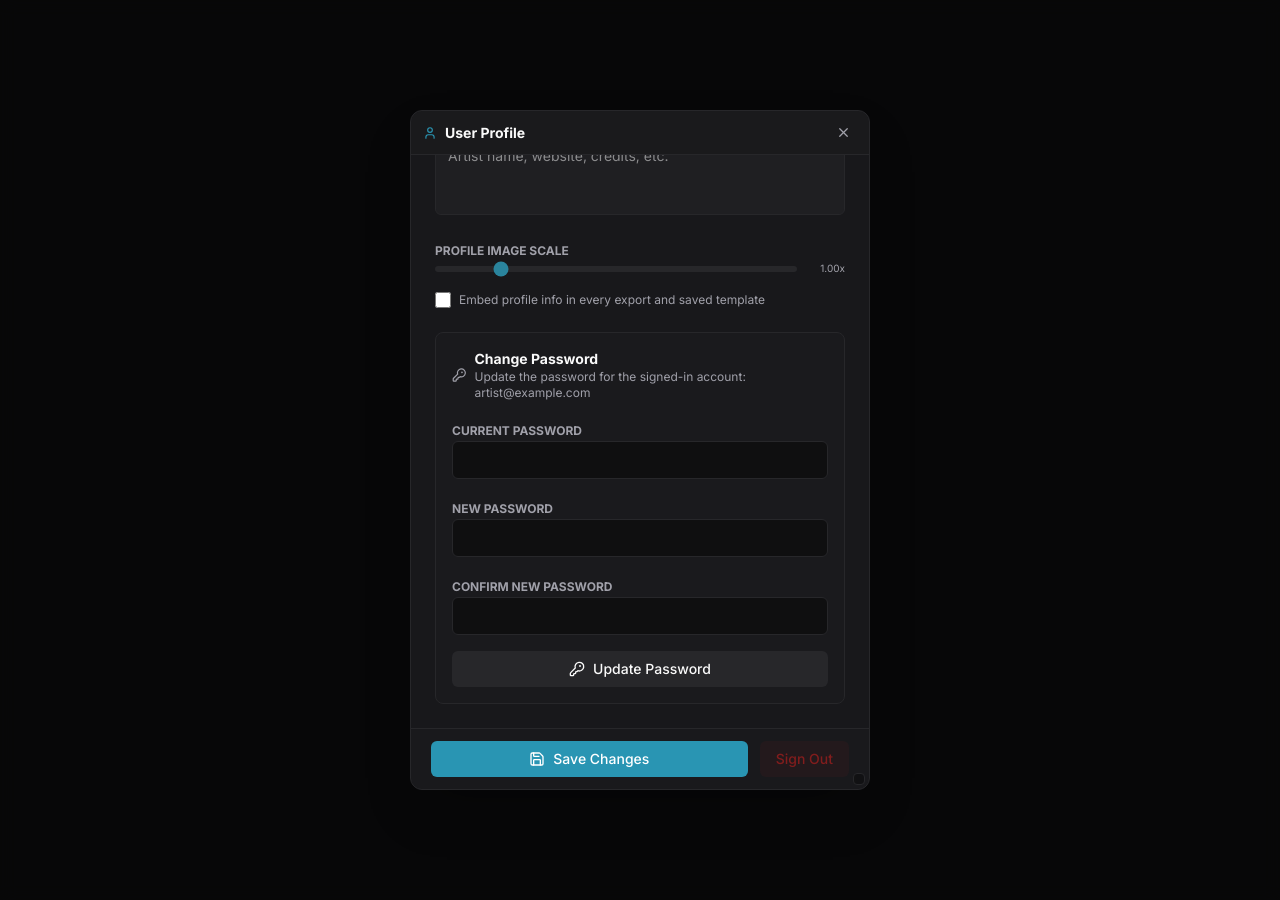
Scenario: UserProfileModal › changes the signed-in account password from the profile modal
(page scrolled)
Step 1. Type "old-secret" into the password field named "Current Password" → (640, 460), box [452,441,828,479]
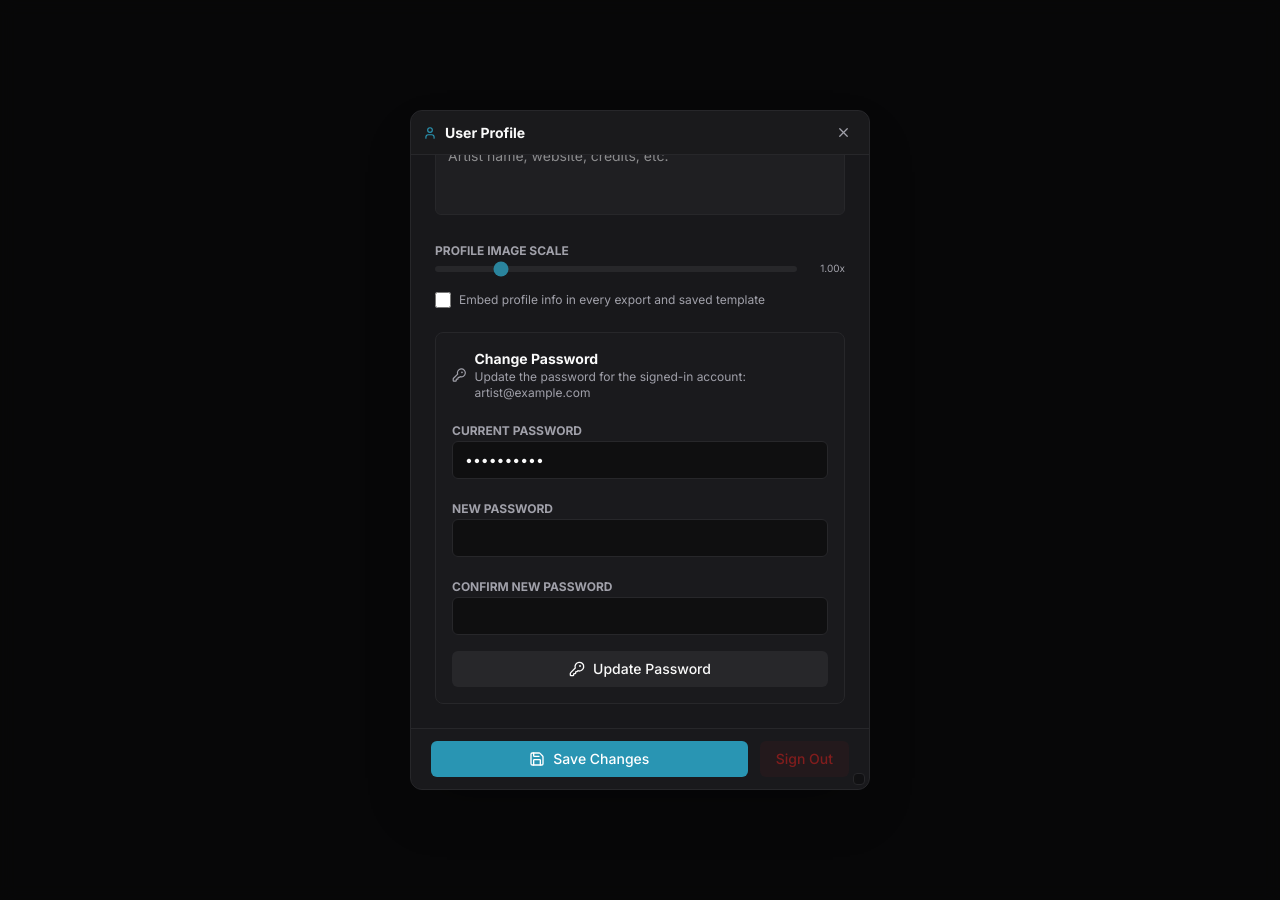
Step 2. Type "new-secret" into the password field named "New Password" → (640, 538), box [452,519,828,557]
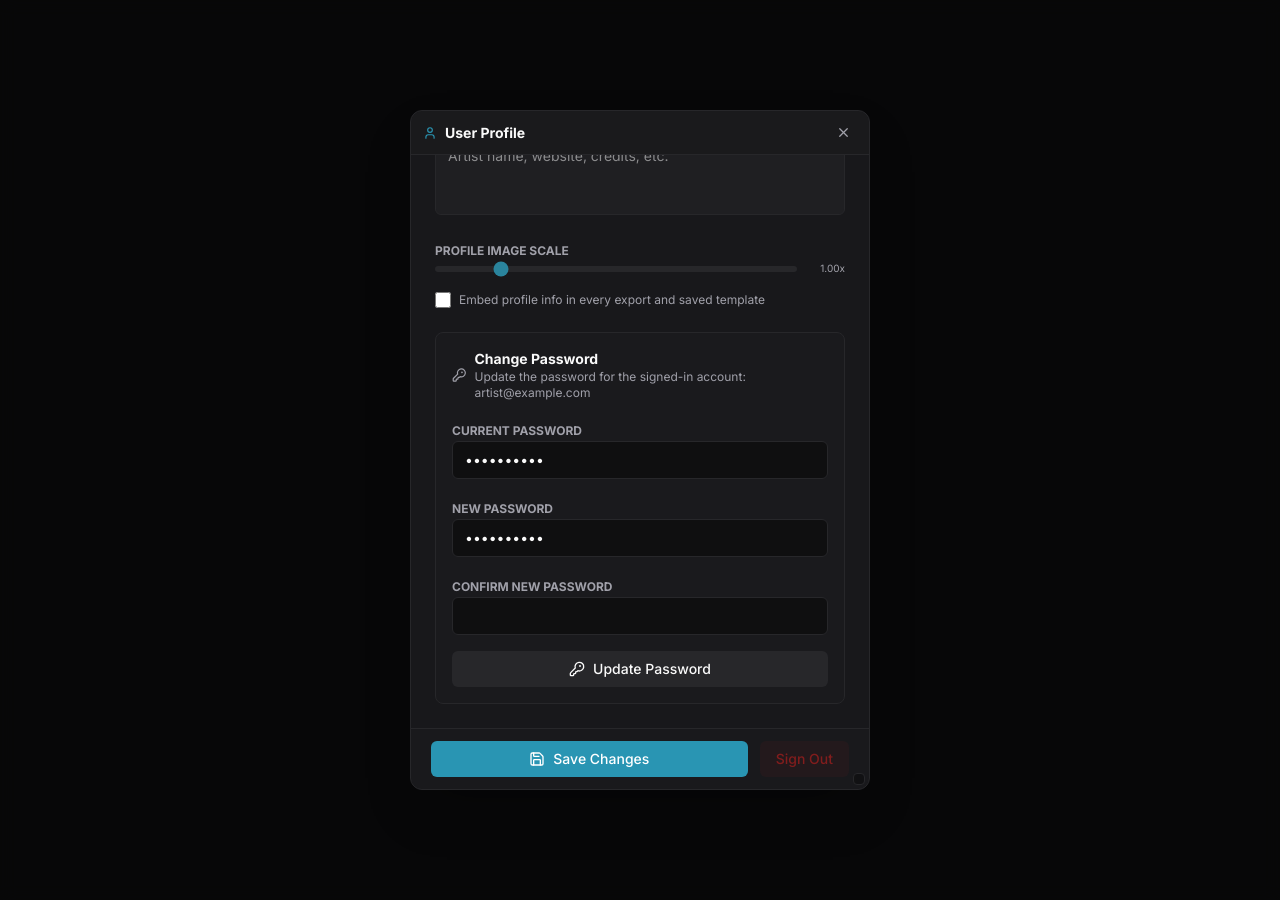
Step 3. Type "new-secret" into the password field named "Confirm New Password" → (640, 616), box [452,597,828,635]
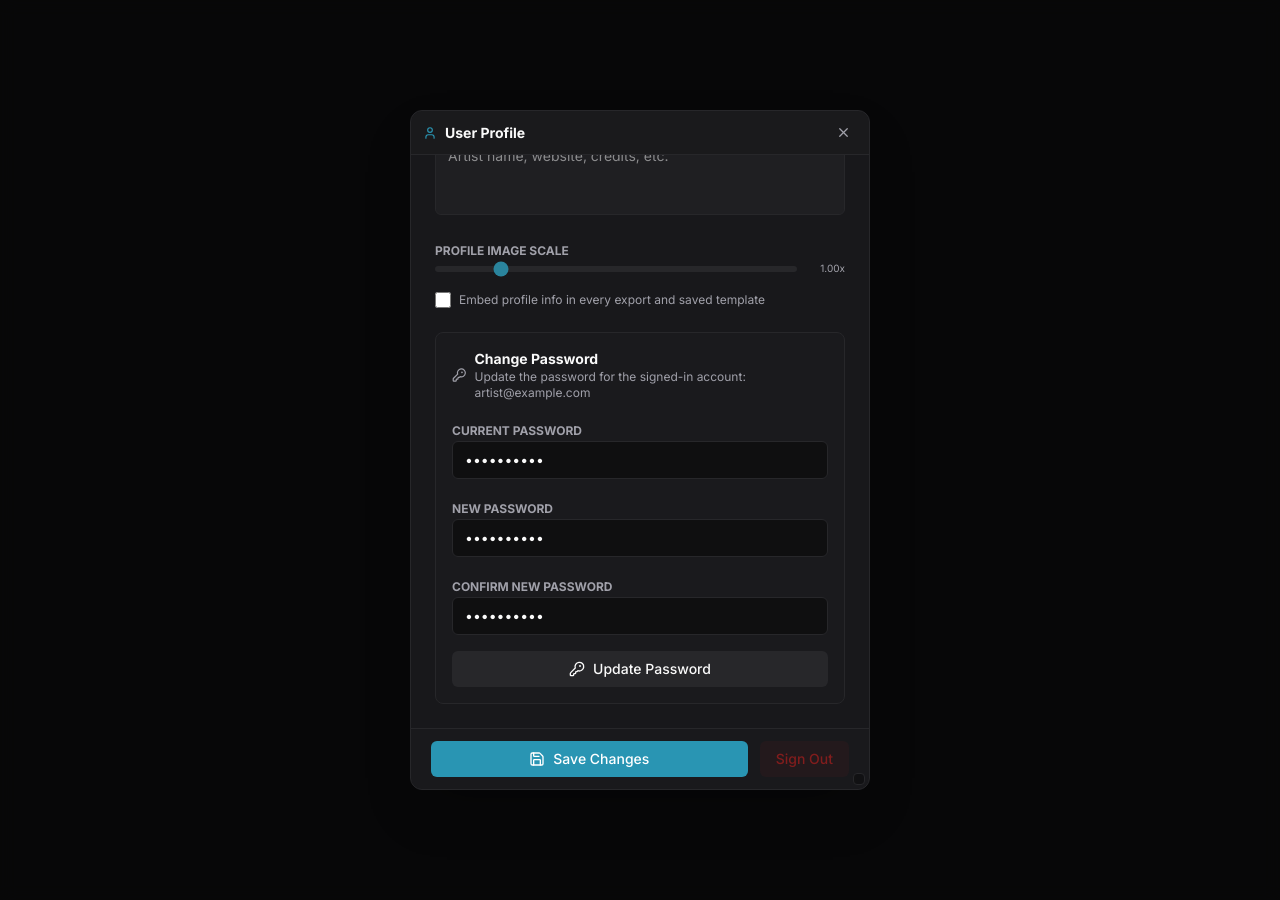
Step 4. Click the button "Update Password" → (640, 669), box [452,651,828,687]
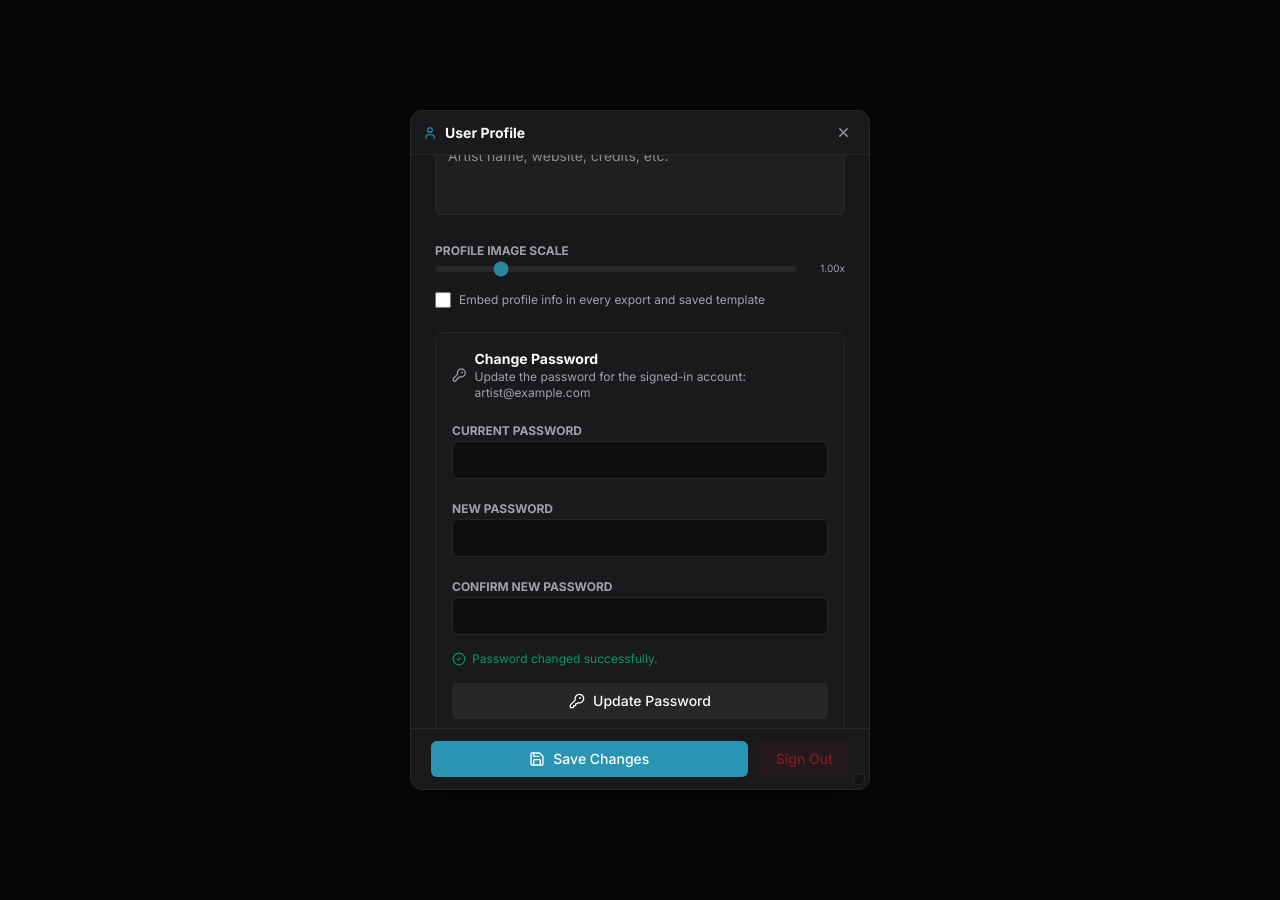
Expected: the text "Password changed successfully." is shown, [452,651,658,666]
